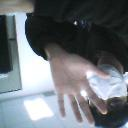hand: (48, 53, 111, 128)
